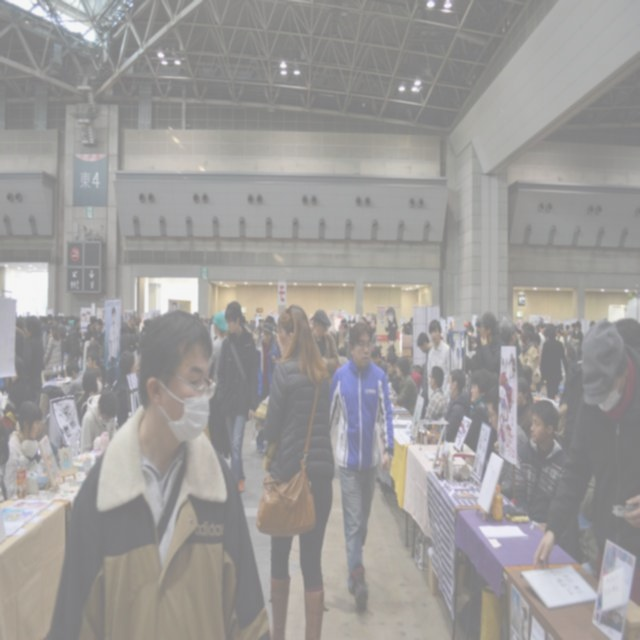pessoa: (43, 309, 272, 639), (530, 316, 639, 608), (250, 300, 337, 639), (329, 322, 395, 612), (213, 300, 261, 496), (480, 382, 535, 522), (514, 400, 562, 522), (3, 400, 43, 502), (207, 310, 232, 470), (557, 347, 586, 454), (436, 368, 472, 450), (256, 322, 278, 453), (78, 390, 120, 454), (426, 318, 454, 406), (111, 351, 140, 432), (308, 309, 339, 382), (539, 326, 569, 400), (474, 310, 506, 376), (467, 368, 492, 451), (387, 356, 419, 416), (422, 366, 449, 436), (24, 315, 44, 407), (2, 355, 32, 416), (76, 367, 102, 428), (387, 356, 412, 416), (498, 317, 523, 377), (553, 320, 596, 354), (518, 331, 540, 394), (416, 331, 434, 406), (322, 325, 340, 398), (517, 376, 535, 439), (611, 313, 640, 350), (44, 324, 62, 379), (85, 349, 105, 394), (64, 316, 82, 365), (64, 359, 85, 401), (264, 314, 282, 360), (462, 322, 474, 391), (516, 321, 548, 346), (460, 351, 484, 384), (107, 306, 120, 366), (38, 312, 75, 331), (384, 305, 398, 354), (518, 364, 534, 406), (14, 316, 28, 362), (370, 344, 388, 378), (120, 322, 137, 356), (239, 311, 265, 331), (334, 346, 351, 376), (399, 314, 414, 348), (192, 310, 214, 333), (126, 314, 140, 349), (340, 322, 352, 362), (84, 316, 100, 344), (384, 346, 396, 381), (40, 316, 50, 356), (95, 319, 105, 347), (446, 318, 454, 349), (254, 325, 264, 348), (474, 320, 482, 348), (140, 319, 148, 340), (338, 318, 347, 336), (371, 317, 376, 348), (134, 314, 142, 332), (308, 314, 316, 331), (347, 318, 356, 330), (462, 320, 470, 332), (272, 320, 279, 332), (361, 316, 367, 325), (120, 312, 124, 322), (366, 320, 371, 328)
